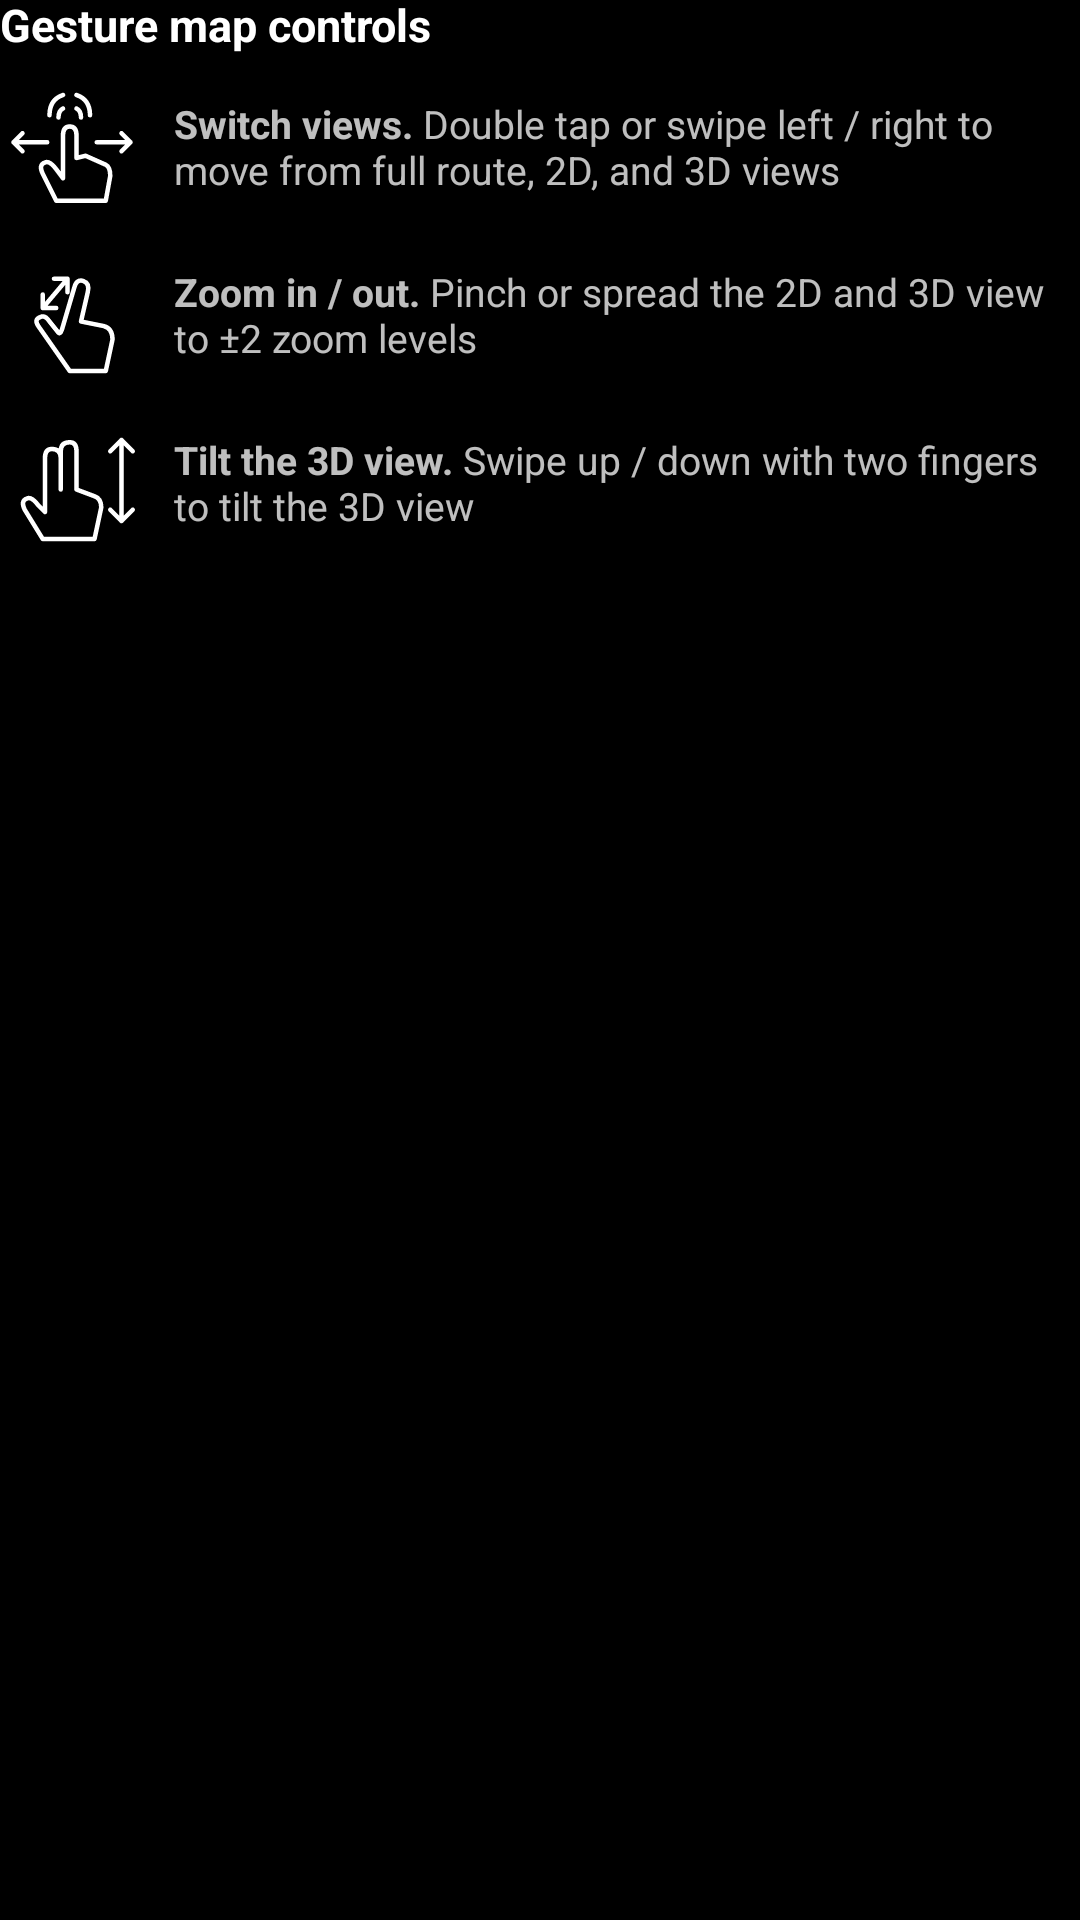

Where icons sit on this 1080px x 1920px app screen, as (x1, y1, x2, y2):
gesture tilt: (20, 437, 135, 542)
gesture views: (11, 92, 133, 203)
gesture zoom: (34, 276, 115, 374)
